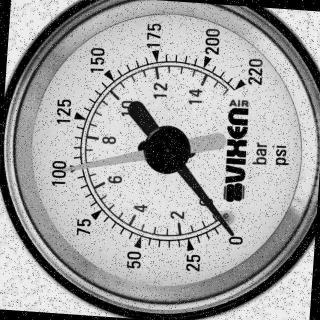gauge: (0, 0, 320, 320), (141, 122, 193, 176), (207, 209, 250, 249), (227, 65, 259, 100), (64, 160, 82, 176), (221, 222, 238, 238)
